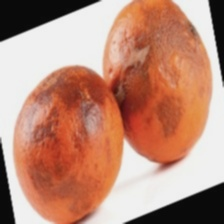orange: (34, 59, 178, 195)
